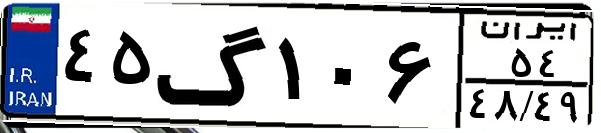0: (330, 28, 385, 110)
1: (270, 28, 330, 110)
4: (57, 26, 110, 100), (537, 27, 568, 80), (470, 70, 495, 125), (535, 70, 560, 125)
5: (110, 28, 156, 98), (508, 27, 537, 80)
6: (385, 28, 445, 110)
8: (495, 70, 520, 125)
9: (560, 70, 590, 125)
گ: (156, 12, 270, 120)
